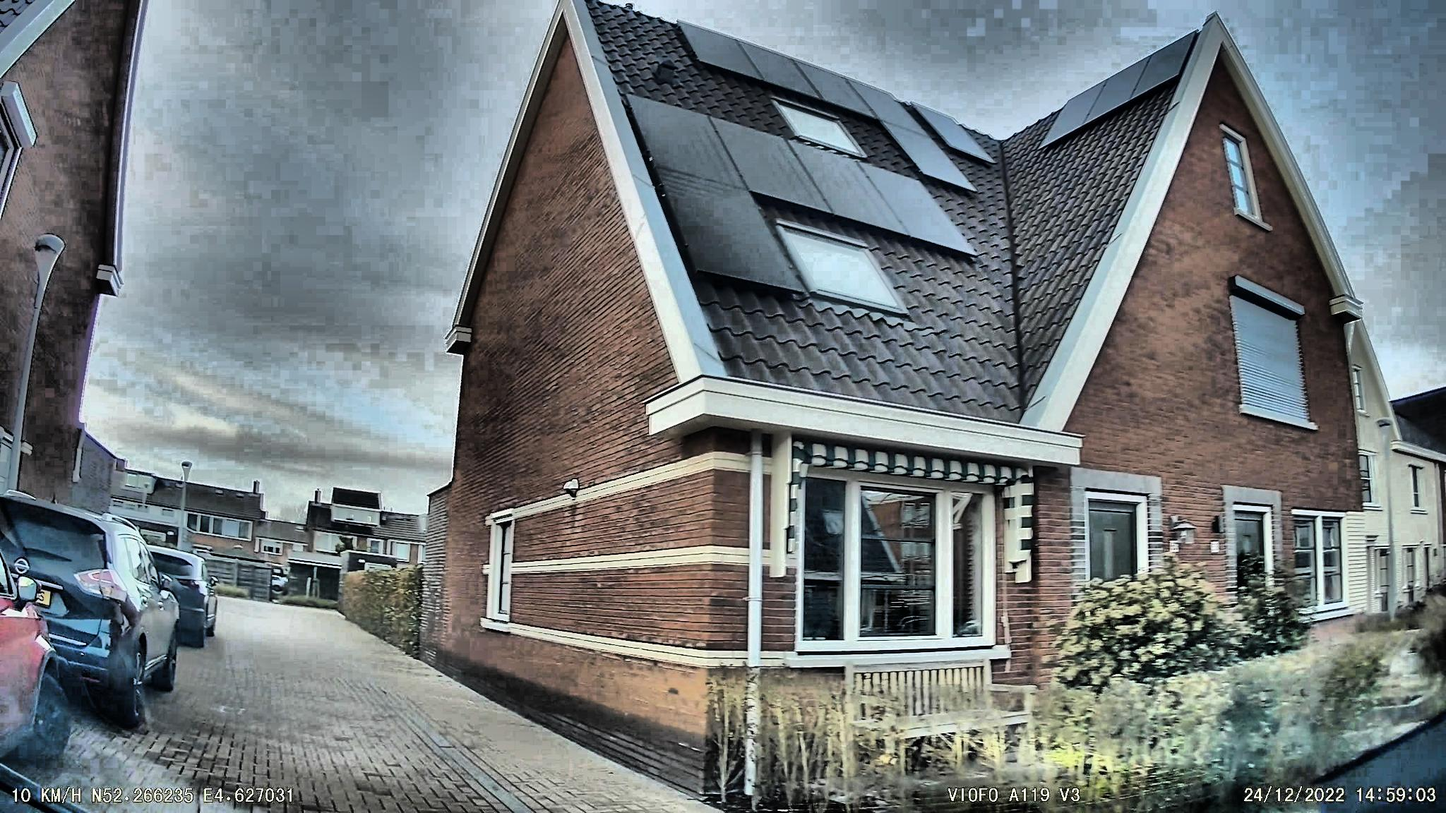Roads: (14, 598, 724, 813)
